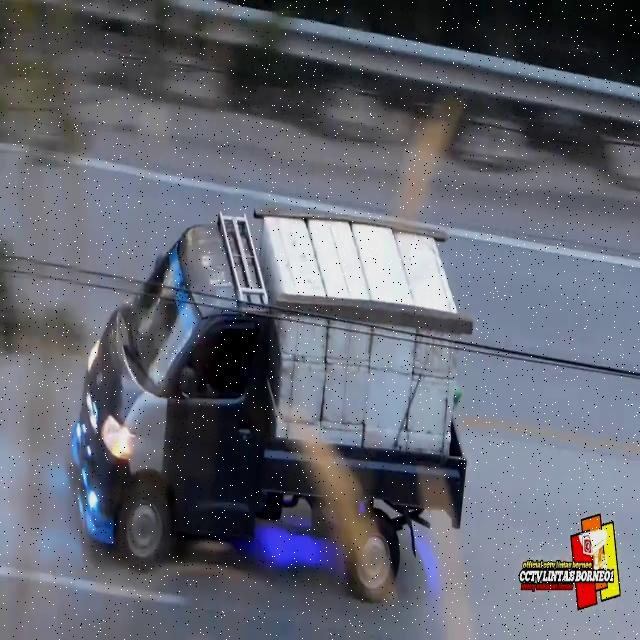Golongan IVB: (70, 209, 470, 600)
